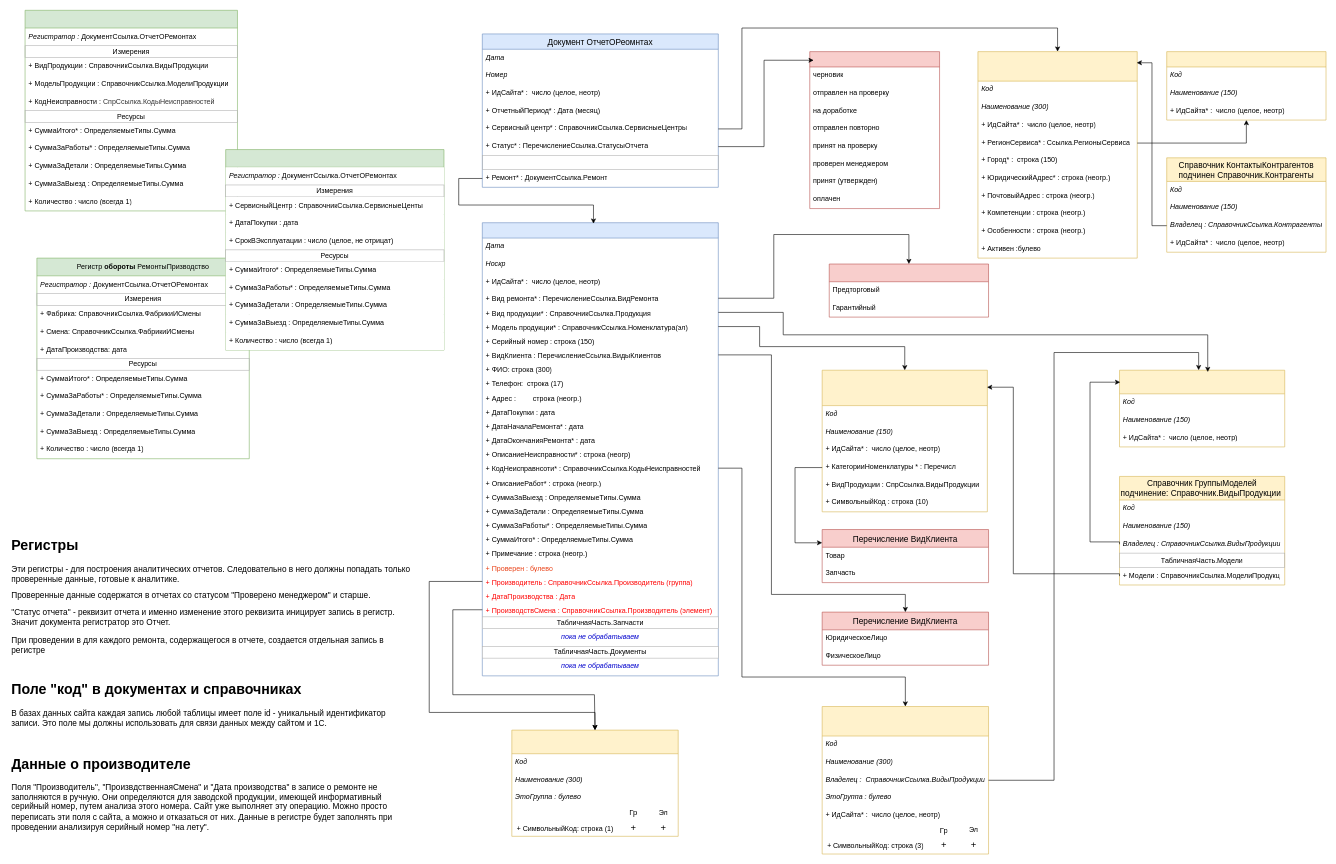
Some shapes in this 1336 by 864 pixel diagram are drawn without their labels. Each missing label, with the box of its shape:
Документ Ремонт: (482, 222, 718, 676)
Перечисление ВидРемонта: (829, 263, 989, 317)
Перечисление СтатусыОтчета: (809, 51, 940, 209)
Регистр обороты РемонтыКонтрагентДатаСроки: (225, 149, 444, 350)
Регистр обороты РемонтыПродукцияИКод: (24, 10, 237, 211)
Справочник ВидыПродукции: (1119, 370, 1285, 447)
Справочник КодыНеисправностей иерархический подчинение: Справочник.ВидыПродукции: (822, 706, 989, 854)
Справочник Контрагенты (СервисныеЦентры): (977, 51, 1137, 258)
Справочник Номенклатура (МоделиПродукции) иерархический: (822, 370, 987, 512)
Справочник РегионыСервиса: (1166, 51, 1326, 120)
Справочник ФабрикиИСмены иерархический: (511, 730, 678, 836)
ТабличнаяЧасть.Ремонты: (482, 155, 718, 170)
